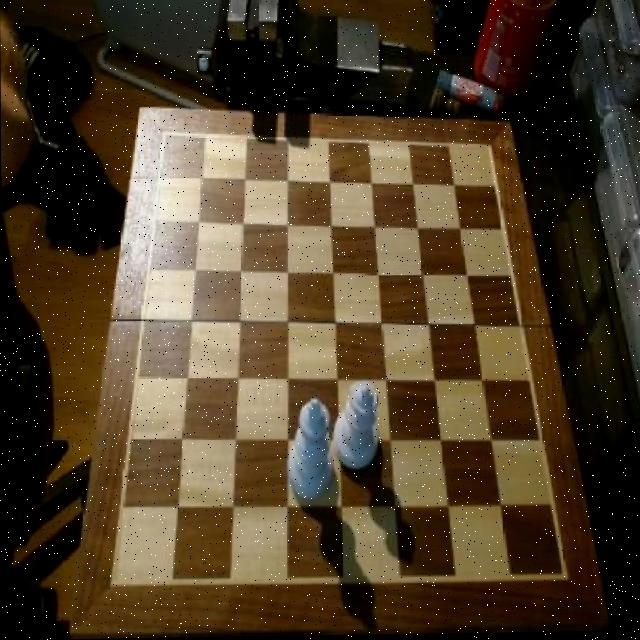white-bishop: (284, 396, 333, 501)
white-pawn: (331, 380, 378, 474)
